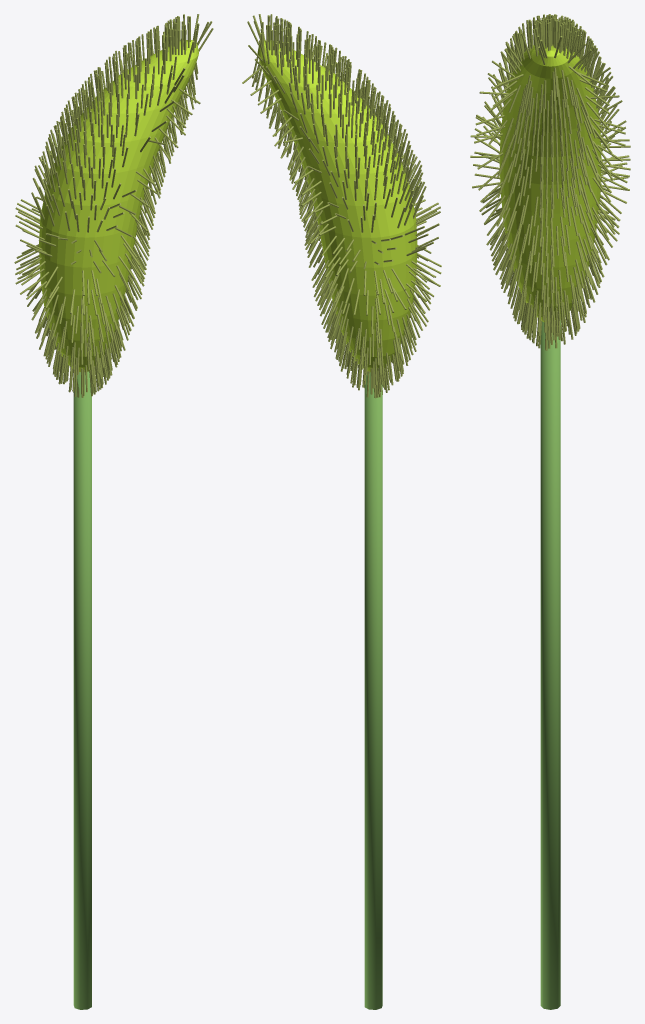
File: item04.fbx
The picture shows the model from 3 angles, left to right: view 1: azimuth 30°, elevation 25°; view 2: azimuth 150°, elevation 25°; view 3: azimuth 270°, elevation 25°; orthographic projection. The views are drawn at different scales.
Parts seen in each view (by area): view 1: メッシュ; view 2: メッシュ; view 3: メッシュ.
Boxes of the visible parts, box(x1,y1,x2,y2) form: メッシュ: box(14, 14, 213, 1009); メッシュ: box(242, 14, 441, 1009); メッシュ: box(470, 14, 630, 1009).
Size of the model in its own units: 10.03 by 50 by 7.01.
